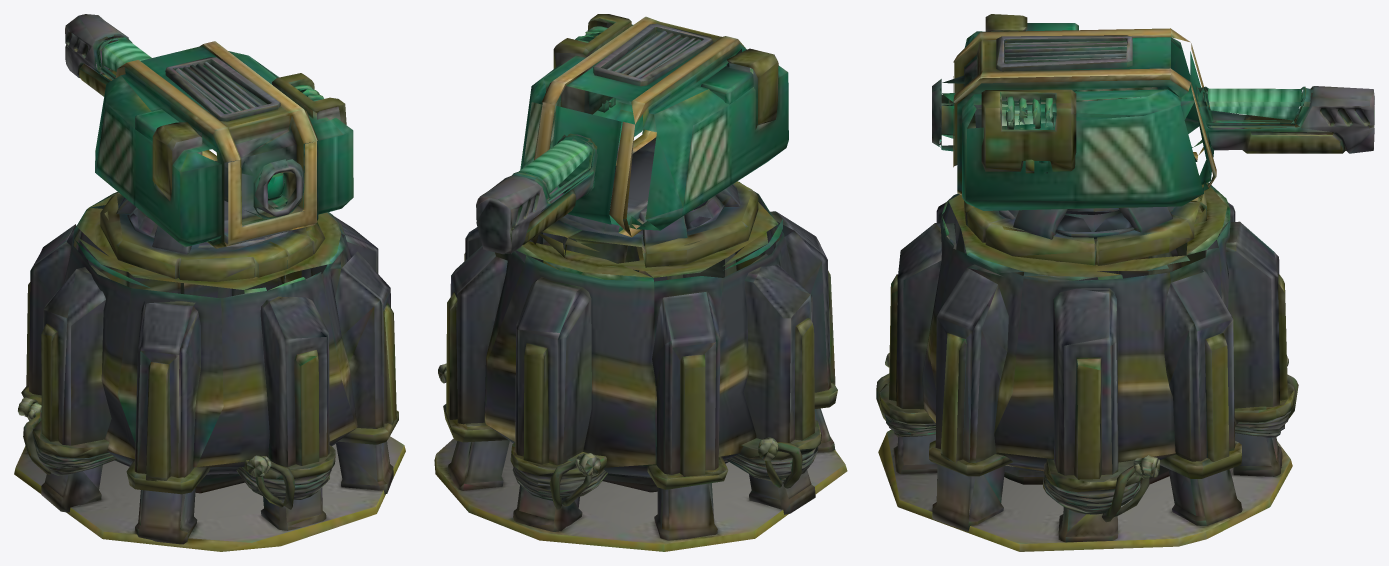
Rendered from wave_force.glb.
The picture shows the model from 3 angles, left to right: view 1: azimuth 30°, elevation 25°; view 2: azimuth 150°, elevation 25°; view 3: azimuth 270°, elevation 25°; orthographic projection. The views are drawn at different scales.
Parts seen in each view (by area): view 1: Body, Turret, Barrel, Trim; view 2: Body, Turret, Barrel, Trim; view 3: Body, Turret, Barrel.
Boxes of the visible parts, bbox=[...] form: Body: bbox=[14, 67, 405, 551]; Turret: bbox=[77, 41, 353, 305]; Barrel: bbox=[65, 14, 151, 96]; Trim: bbox=[75, 159, 305, 290]; Body: bbox=[434, 102, 847, 551]; Turret: bbox=[520, 14, 793, 277]; Barrel: bbox=[476, 106, 621, 256]; Trim: bbox=[527, 216, 782, 279]; Body: bbox=[876, 43, 1298, 551]; Turret: bbox=[941, 14, 1203, 276]; Barrel: bbox=[1190, 51, 1374, 218].
Bounding box in the file's own units: 3.9 × 4.26 × 4.6.
2 materials, 2 textured.
